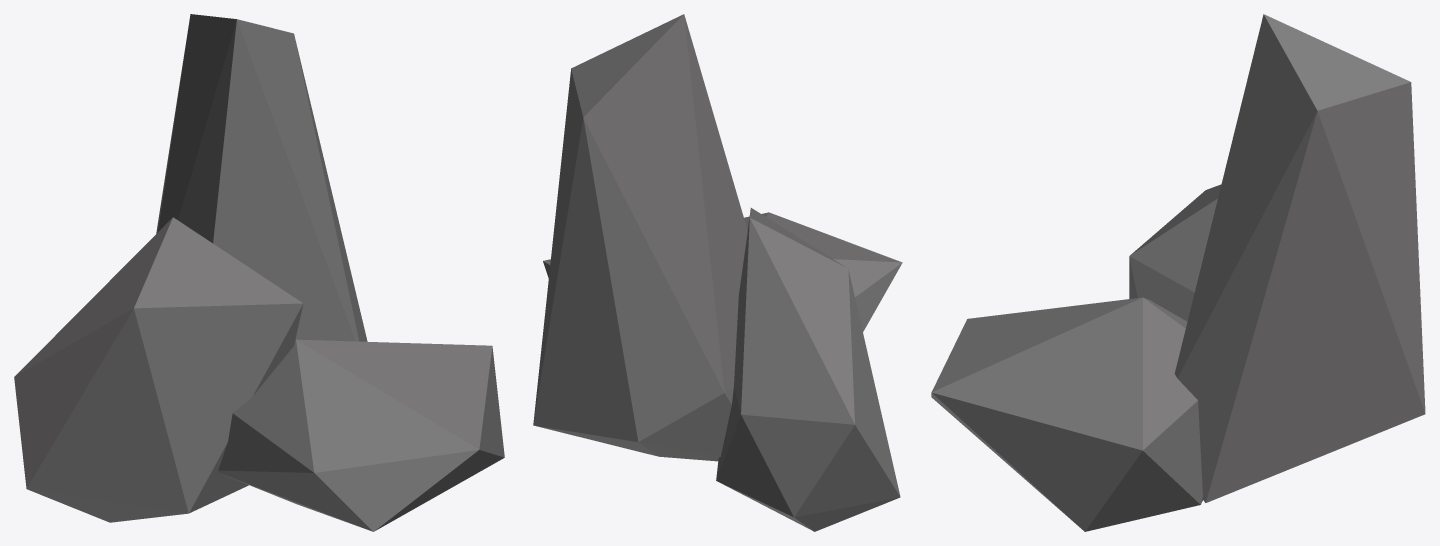
File: rock2.fbx
3 renders of one model, left to right at view 1: azimuth 30°, elevation 25°; view 2: azimuth 150°, elevation 25°; view 3: azimuth 270°, elevation 25°, orthographic. The views are drawn at different scales.
Parts seen in each view (by area): view 1: Icosphere; view 2: Icosphere; view 3: Icosphere.
Part boxes in pixels (x1,y1,x2,y2): Icosphere: [14, 14, 504, 531]; Icosphere: [533, 14, 902, 531]; Icosphere: [931, 14, 1425, 531].
Bounding box in the file's own units: 436 × 484 × 448.
